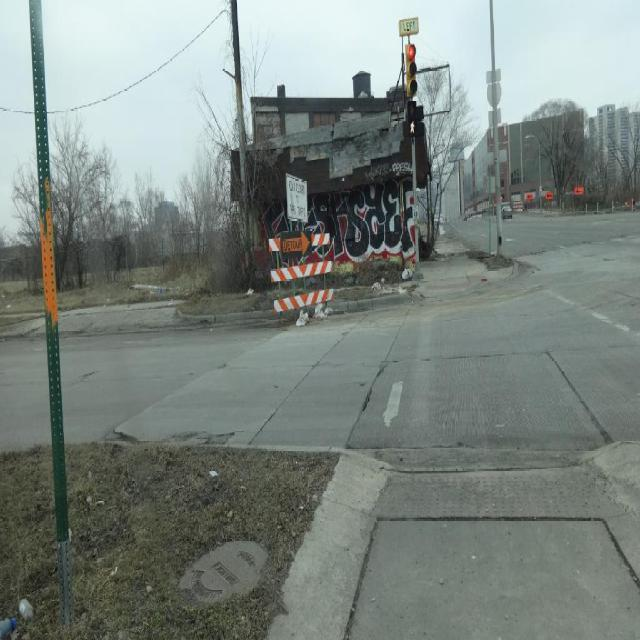traffic light: (406, 39, 417, 100), (408, 101, 417, 137)
